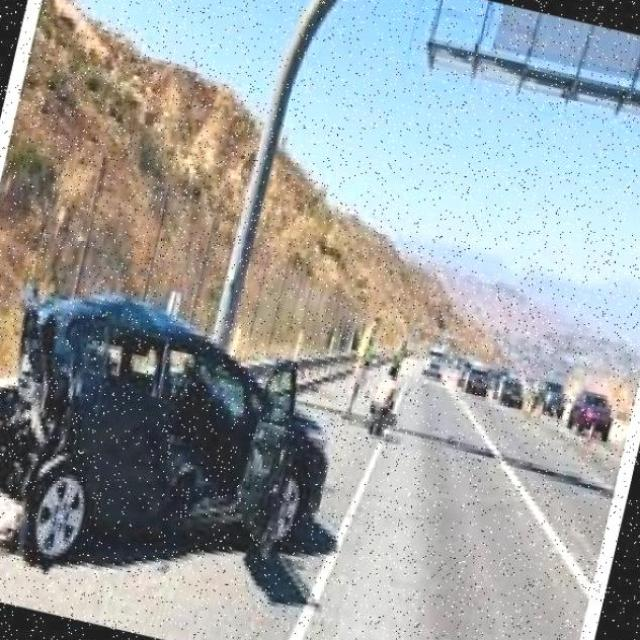accident: (0, 245, 370, 587)
